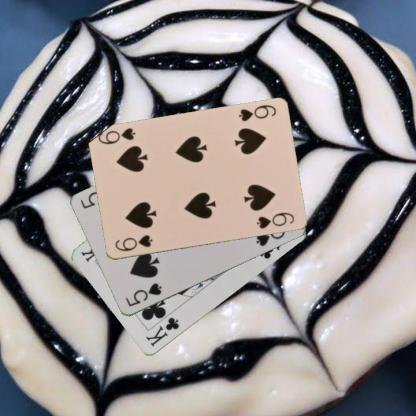5s: (122, 281, 163, 308)
6s: (235, 102, 278, 123), (112, 232, 154, 253)
Kc: (143, 314, 181, 348)
